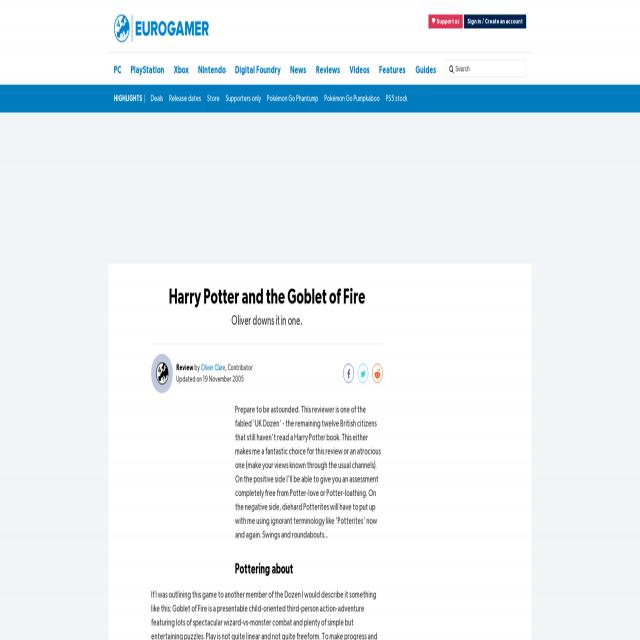button: (114, 15, 208, 42), (235, 53, 281, 85), (131, 53, 164, 86), (198, 53, 226, 85), (379, 53, 406, 85), (464, 15, 526, 28), (316, 53, 340, 85), (350, 53, 370, 85), (416, 53, 436, 85), (290, 53, 306, 85), (174, 53, 188, 85), (428, 15, 462, 28), (114, 53, 121, 85), (343, 363, 354, 383), (372, 363, 383, 383), (358, 363, 368, 383)
field: (446, 61, 526, 78)
